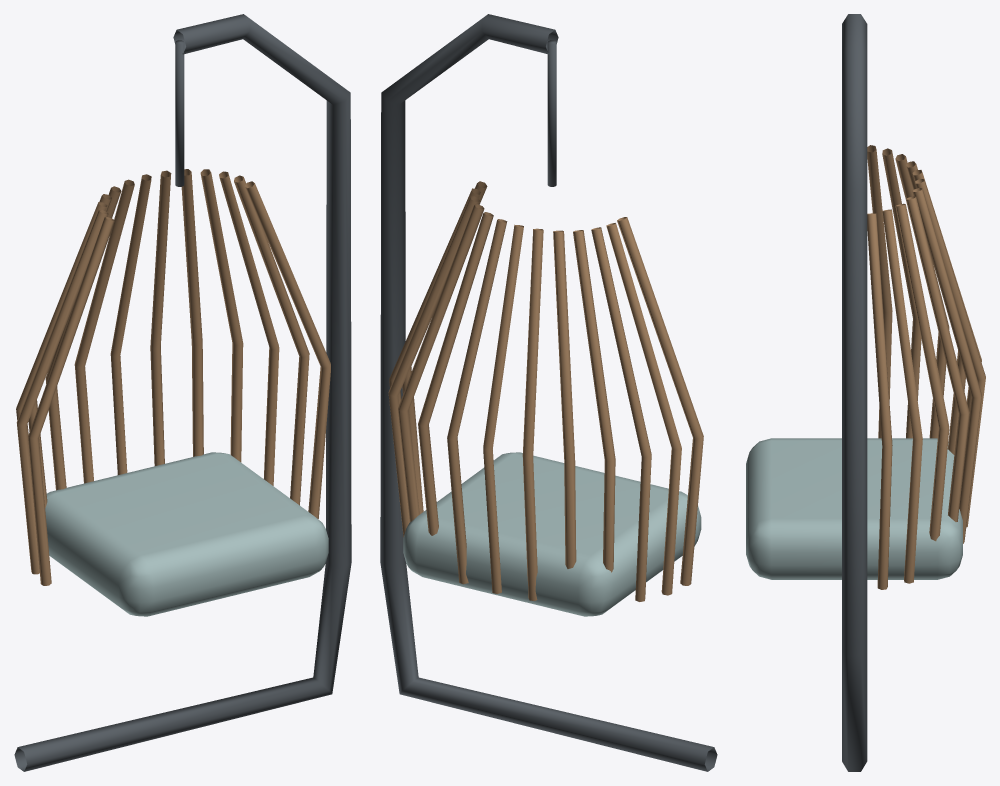
The model's file is atelier-hanging-chair.glb.
3 renders of one model, left to right at view 1: azimuth 30°, elevation 25°; view 2: azimuth 150°, elevation 25°; view 3: azimuth 270°, elevation 25°, orthographic.
Parts seen in each view (by area): view 1: legs.020, fabric.023, metal.006; view 2: legs.020, metal.006, fabric.023; view 3: legs.020, fabric.023, metal.006.
Boxes of the visible parts, <box> form: legs.020: <box>16,169,330,585</box>; fabric.023: <box>45,452,328,616</box>; metal.006: <box>14,14,351,771</box>; legs.020: <box>388,181,703,601</box>; metal.006: <box>380,14,717,771</box>; fabric.023: <box>403,452,701,616</box>; legs.020: <box>867,145,985,589</box>; fabric.023: <box>746,438,962,579</box>; metal.006: <box>842,14,867,771</box>.
Bounding box in the file's own units: 1.03 × 2.1 × 0.663.
